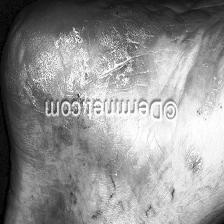Non-Cancerous Skin Condition: (26, 16, 142, 88)
